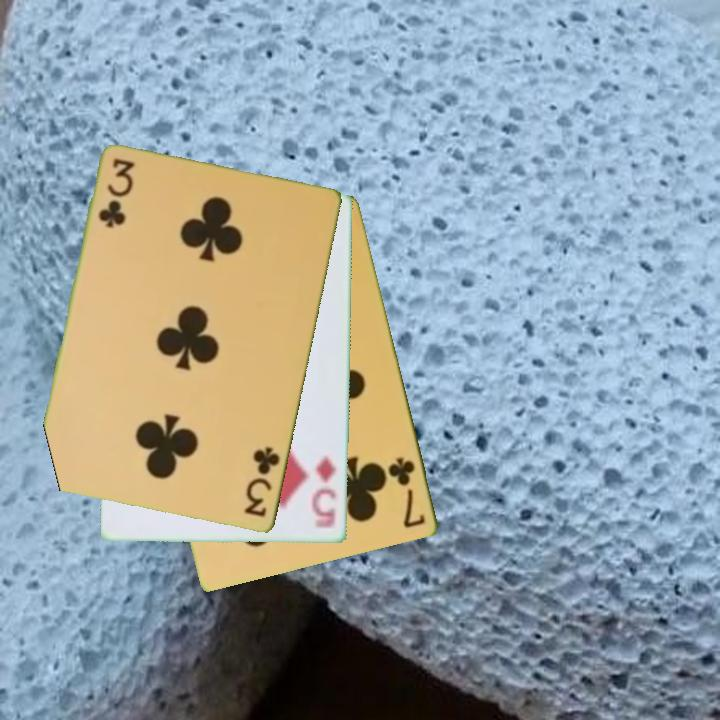3c: (241, 444, 283, 520), (95, 155, 136, 232)
5d: (310, 452, 340, 532)
7c: (386, 454, 429, 531)
